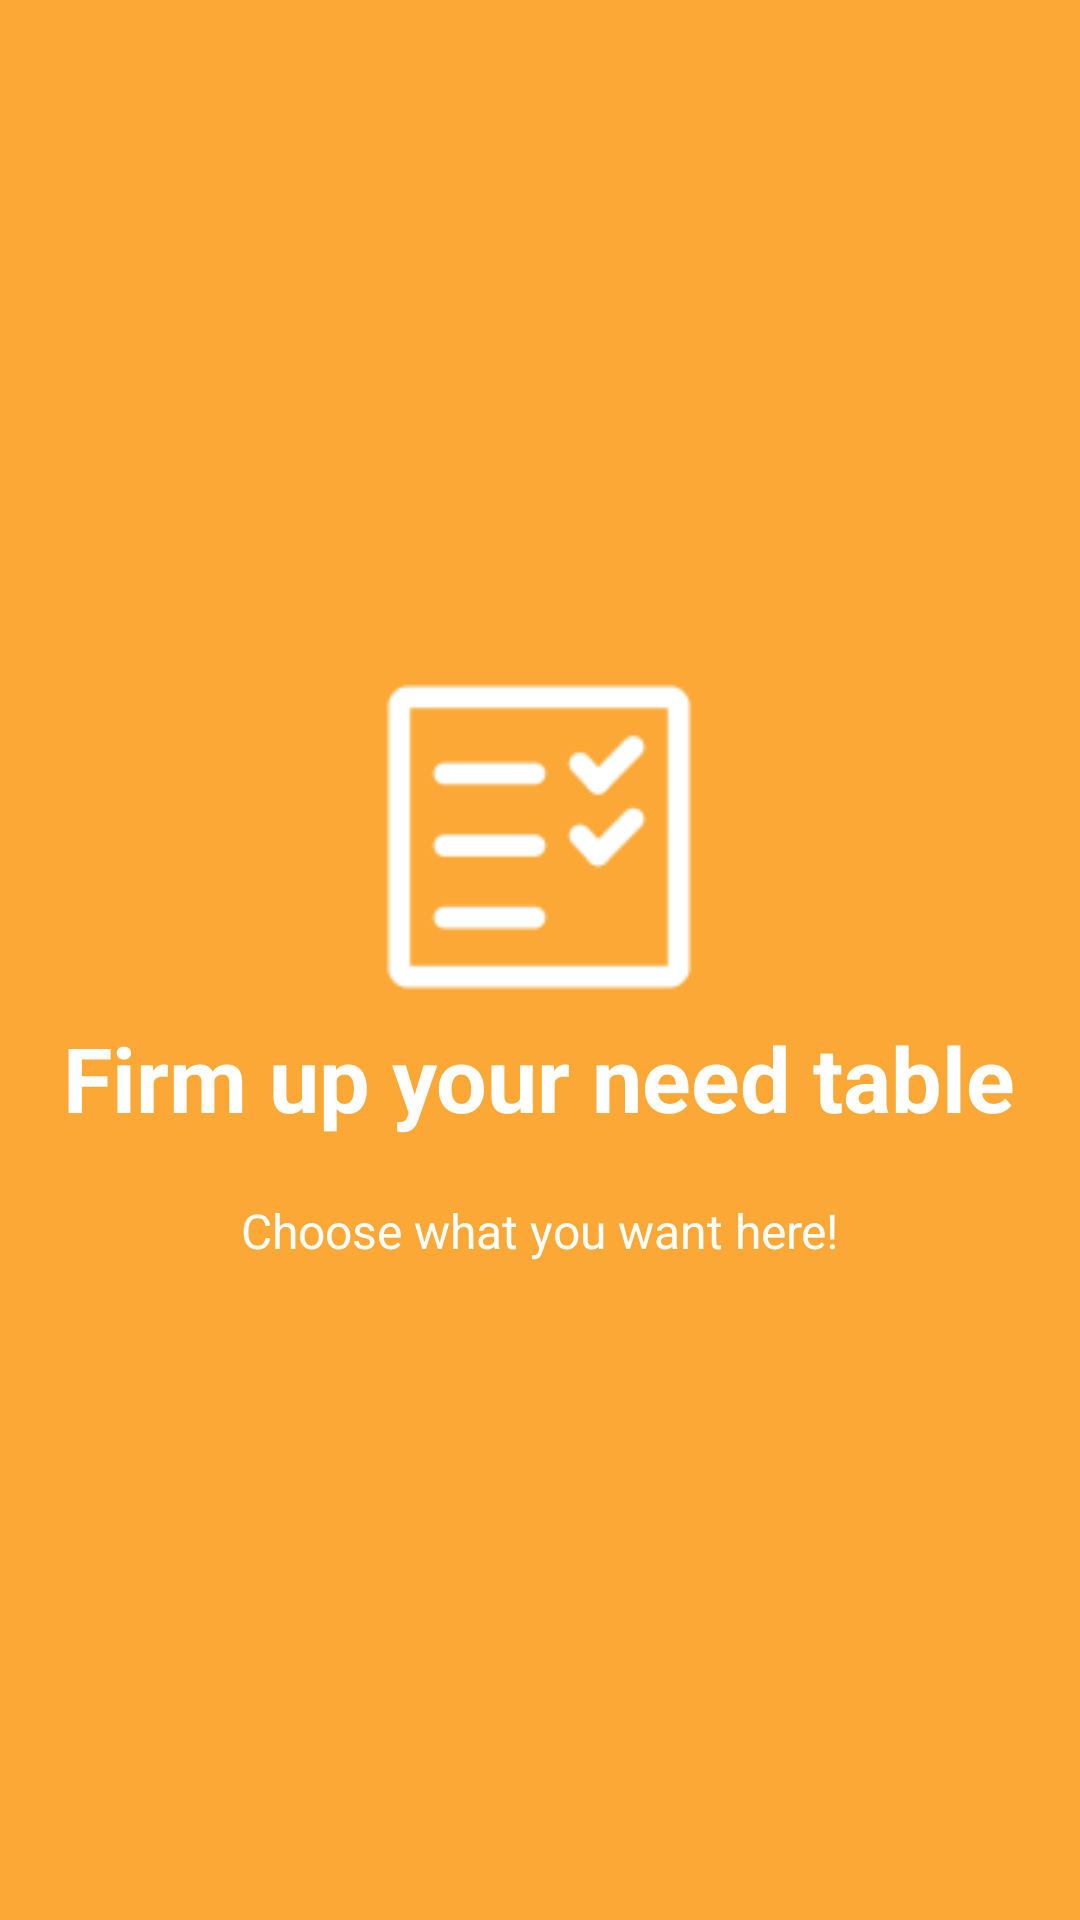

Screen size 1080 x 1920. Icon name, then its center in pixels as (x=x, y=y):
listings: (x=539, y=837)
